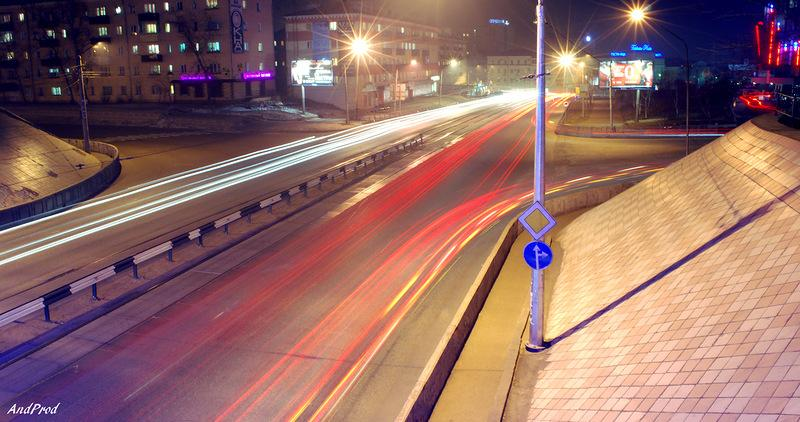sign: (516, 200, 557, 240), (522, 240, 555, 270)
